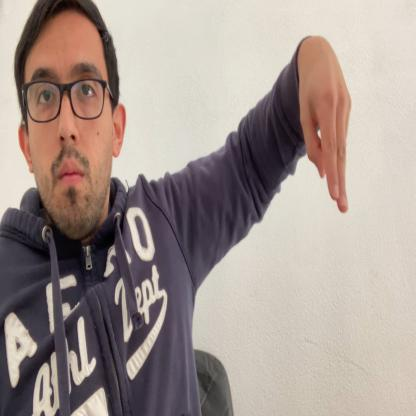N: (298, 40, 351, 213)
